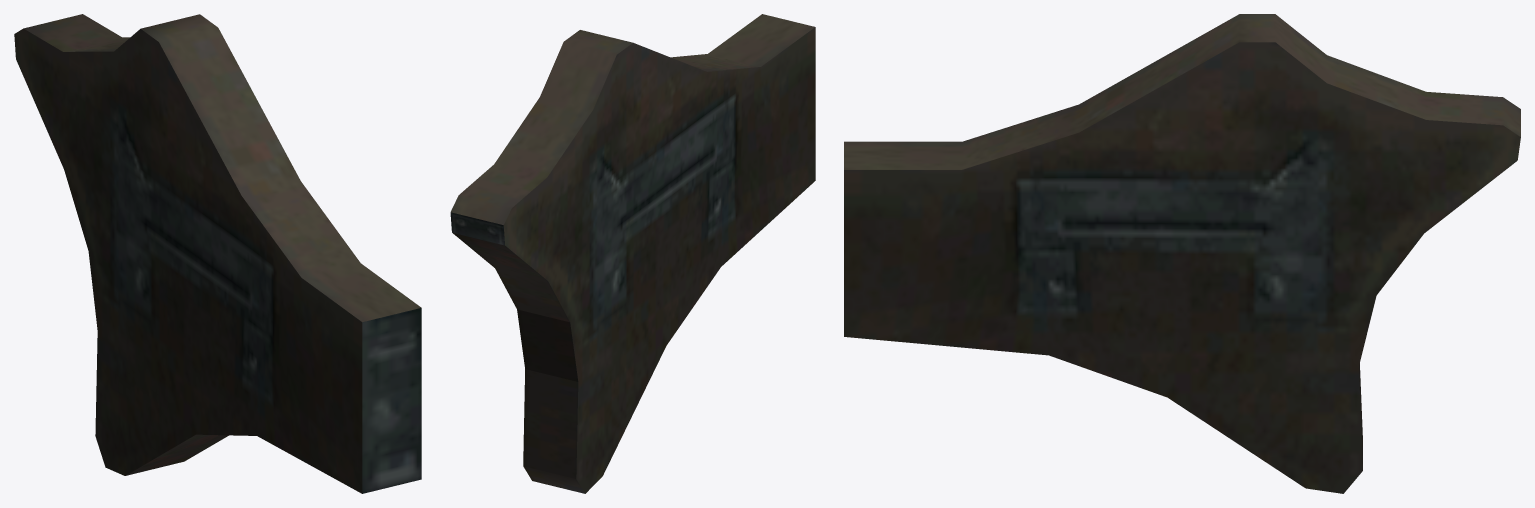
The model's file is wp_rifle_laser_stock_l0.fbx.
3 renders of one model, left to right at view 1: azimuth 30°, elevation 25°; view 2: azimuth 150°, elevation 25°; view 3: azimuth 270°, elevation 25°, orthographic. The views are drawn at different scales.
Parts seen in each view (by area): view 1: mesh_node; view 2: mesh_node; view 3: mesh_node.
Boxes of the visible parts, x1=… form: mesh_node: x1=14, y1=14, x2=421, y2=493; mesh_node: x1=450, y1=14, x2=815, y2=493; mesh_node: x1=844, y1=14, x2=1520, y2=493.
Bounding box in the file's own units: 0.0173 × 0.1296 × 0.176.
